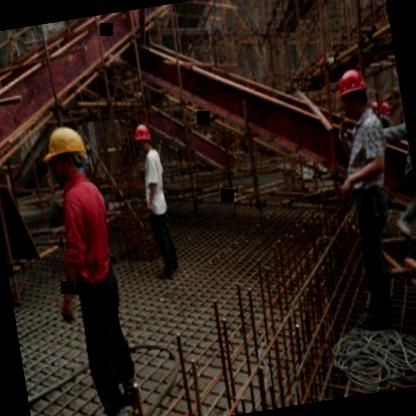helmet: (38, 120, 94, 188), (332, 64, 372, 119), (130, 119, 156, 156)
